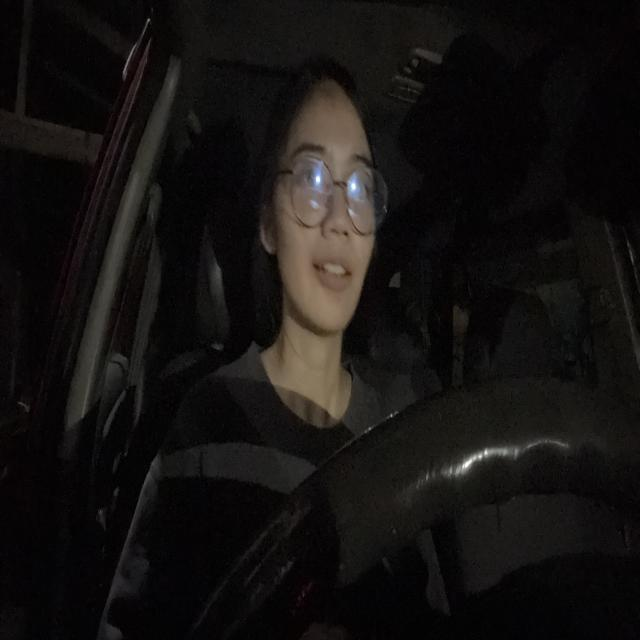open: (288, 137, 329, 203), (344, 147, 374, 214)
